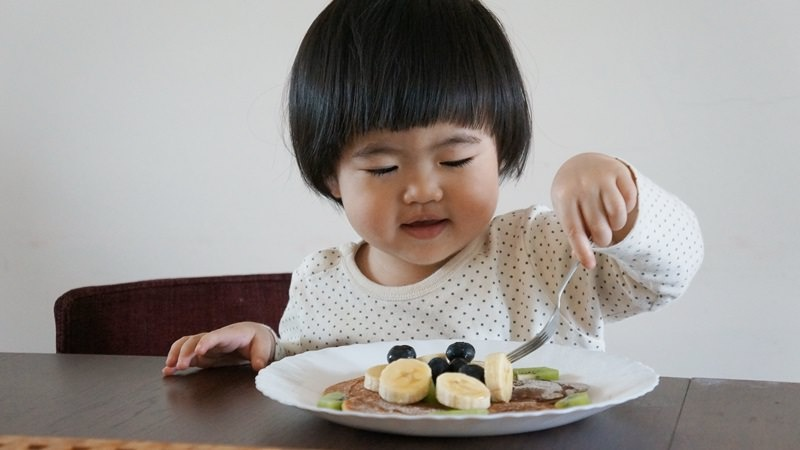face: (312, 100, 519, 270)
